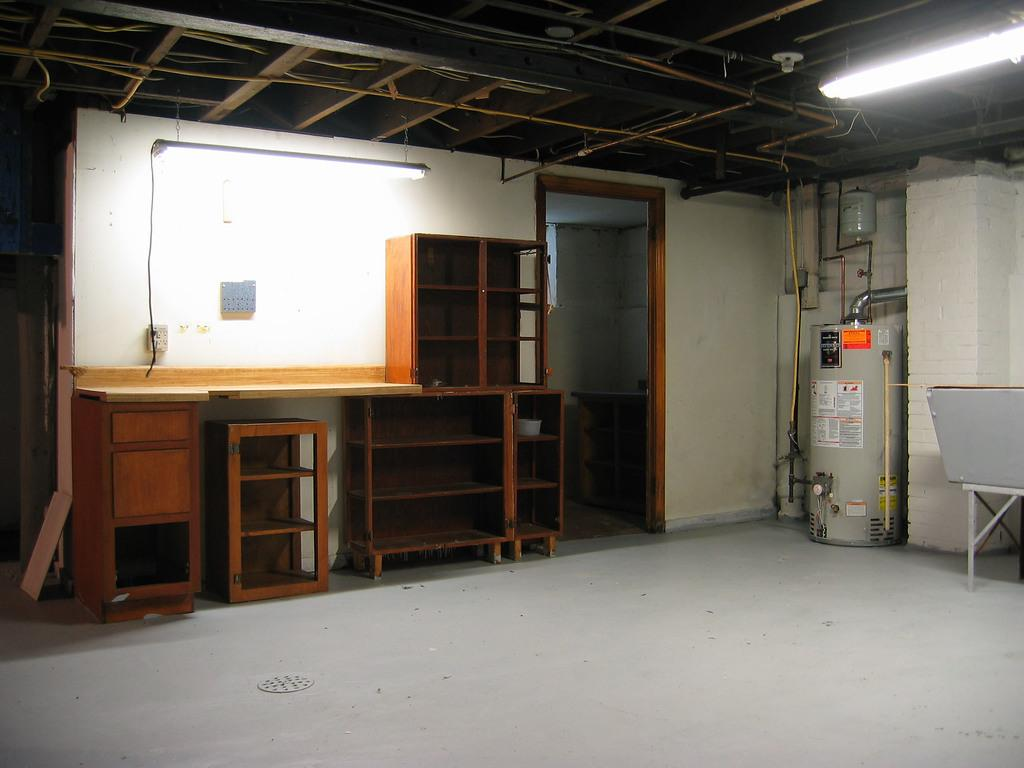cabinet_door: (112, 446, 194, 516), (113, 408, 196, 450)
